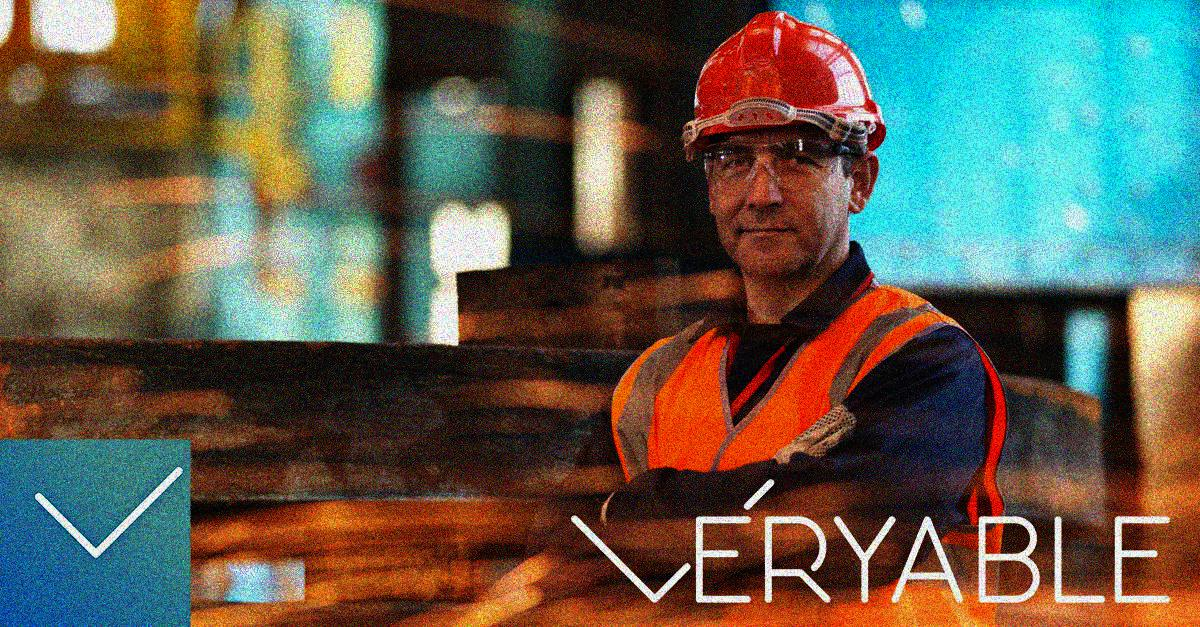helmet: (678, 7, 884, 275)
